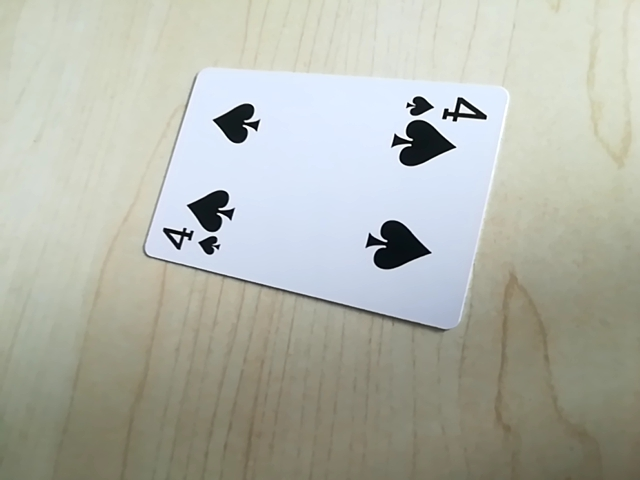ht 4: (402, 90, 488, 123), (151, 226, 229, 260)
